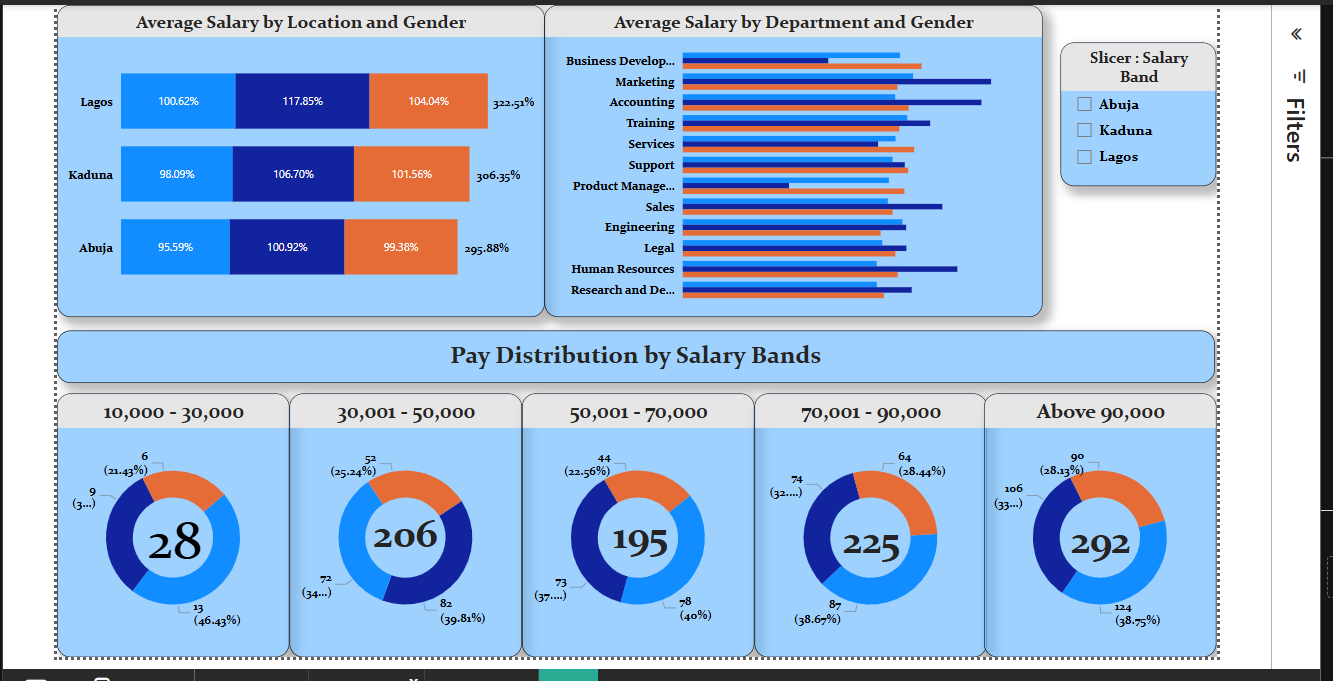

This screenshot's page, from the dashboard's own definition file:
{"tool":"powerbi","page":{"name":"Page 2","canvas":[1280,720],"ordinal":1},"visuals":[{"type":"barChart","title":"Average Salary by Location and Gender","fields":{"Y":["Palmoria Group emp-data.Salary"],"Category":["Palmoria Group emp-data.Location"],"Series":["Palmoria Group emp-data.Gender"]},"box":[0,0,538.4,344.5],"z":0},{"type":"clusteredBarChart","title":"Average Salary by Department and Gender","fields":{"Series":["Palmoria Group emp-data.Gender"],"Y":["Palmoria Group emp-data.Salary"],"Category":["Palmoria Group emp-data.Department"]},"box":[538.4,0,550,344.5],"z":1000},{"type":"slicer","title":"Slicer : Salary Band","fields":{"Values":["Palmoria Group emp-data.Location"]},"box":[1107.4,41.6,172,158.7],"z":2000},{"type":"textbox","box":[0,359.5,1278.8,58],"z":3000},{"type":"donutChart","title":"10,000 - 30,000","fields":{"Category":["Palmoria Group emp-data.Location"],"Y":["Palmoria Group emp-data.Salary Band"]},"box":[0,429,256.8,291.5],"z":4000},{"type":"donutChart","title":"30,001 - 50,000","fields":{"Category":["Palmoria Group emp-data.Location"],"Y":["Palmoria Group emp-data.Salary Band"]},"box":[256.8,429,256.8,291.5],"z":5000},{"type":"donutChart","title":"50,001 - 70,000","fields":{"Category":["Palmoria Group emp-data.Location"],"Y":["Palmoria Group emp-data.Salary Band"]},"box":[513.5,429,256.8,291.5],"z":6000},{"type":"donutChart","title":" 70,001 - 90,000","fields":{"Category":["Palmoria Group emp-data.Location"],"Y":["Palmoria Group emp-data.Salary Band"]},"box":[770.3,429,256.8,291.5],"z":7000},{"type":"donutChart","title":"Above 90,000","fields":{"Category":["Palmoria Group emp-data.Location"],"Y":["Palmoria Group emp-data.Salary Band"]},"box":[1023.7,429,256.8,291.5],"z":8000},{"type":"card","fields":{"Values":["Palmoria Group emp-data.Name"]},"box":[91.1,551.6,76.2,67.9],"z":9000},{"type":"card","fields":{"Values":["Palmoria Group emp-data.Name"]},"box":[334.5,540.5,100.2,79.4],"z":10000},{"type":"card","fields":{"Values":["Palmoria Group emp-data.Name"]},"box":[600.9,546.1,85,69.9],"z":11000},{"type":"card","fields":{"Values":["Palmoria Group emp-data.Name"]},"box":[856.1,551.8,85,69.9],"z":12000},{"type":"card","fields":{"Values":["Palmoria Group emp-data.Name"]},"box":[1109.3,551.8,85,69.9],"z":13000}]}

Visuals, with their boxes on the page's 1280x720 design canvas (x1, y1, x2, y2). These are canvas units, not pixel positions in the 1333x681 screenshot, which may show the page scaled, cropped or inside an application window:
"Average Salary by Location and Gender" barChart: l=0, t=0, r=538, b=344
"Average Salary by Department and Gender" clusteredBarChart: l=538, t=0, r=1088, b=344
"Slicer : Salary Band" slicer: l=1107, t=42, r=1279, b=200
textbox: l=0, t=360, r=1279, b=418
"10,000 - 30,000" donutChart: l=0, t=429, r=257, b=720
"30,001 - 50,000" donutChart: l=257, t=429, r=514, b=720
"50,001 - 70,000" donutChart: l=514, t=429, r=770, b=720
" 70,001 - 90,000" donutChart: l=770, t=429, r=1027, b=720
"Above 90,000" donutChart: l=1024, t=429, r=1280, b=720
card - Palmoria Group emp-data.Name: l=91, t=552, r=167, b=620
card - Palmoria Group emp-data.Name: l=334, t=540, r=435, b=620
card - Palmoria Group emp-data.Name: l=601, t=546, r=686, b=616
card - Palmoria Group emp-data.Name: l=856, t=552, r=941, b=622
card - Palmoria Group emp-data.Name: l=1109, t=552, r=1194, b=622
